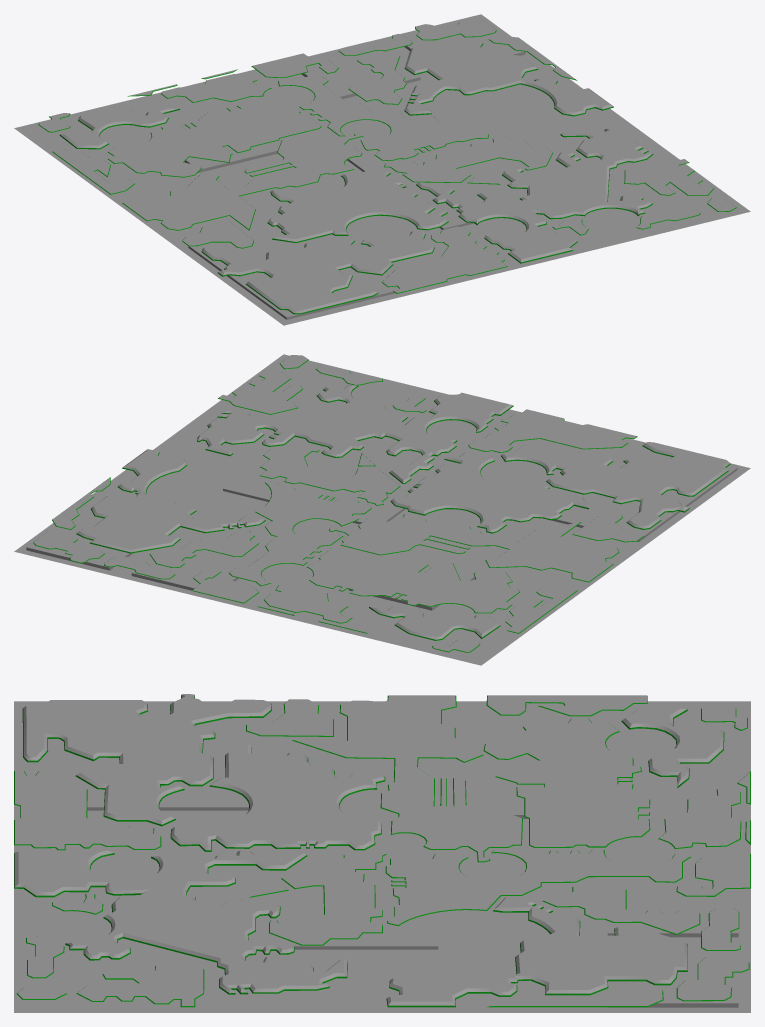
File: ground1 lod0.FBX
The picture shows the model from 3 angles, top to bottom: view 1: azimuth 30°, elevation 25°; view 2: azimuth 150°, elevation 25°; view 3: azimuth 270°, elevation 25°; orthographic projection. The views are drawn at different scales.
Visible parts, largest first — view 1: Object004; view 2: Object004; view 3: Object004.
Part boxes in pixels (x1,y1,x2,y2): Object004: (14,14,750,325); Object004: (14,354,750,665); Object004: (14,694,750,1012).
Size of the model in its own units: 4 by 0.0685 by 4.
